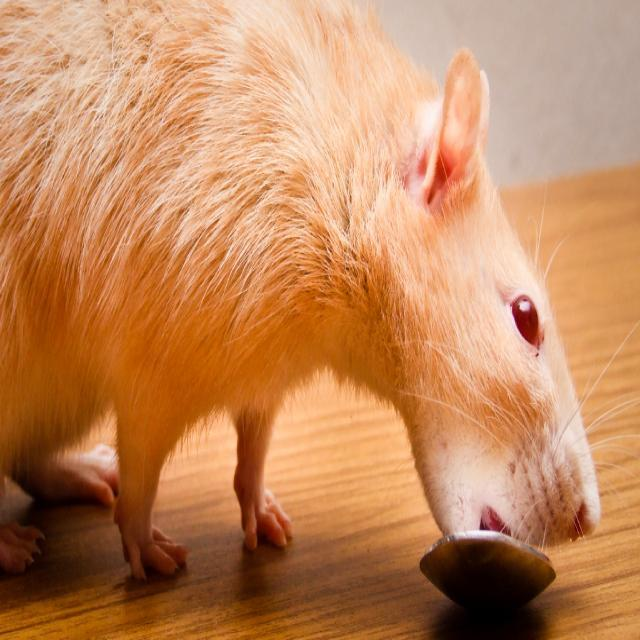rat: (14, 11, 604, 556)
